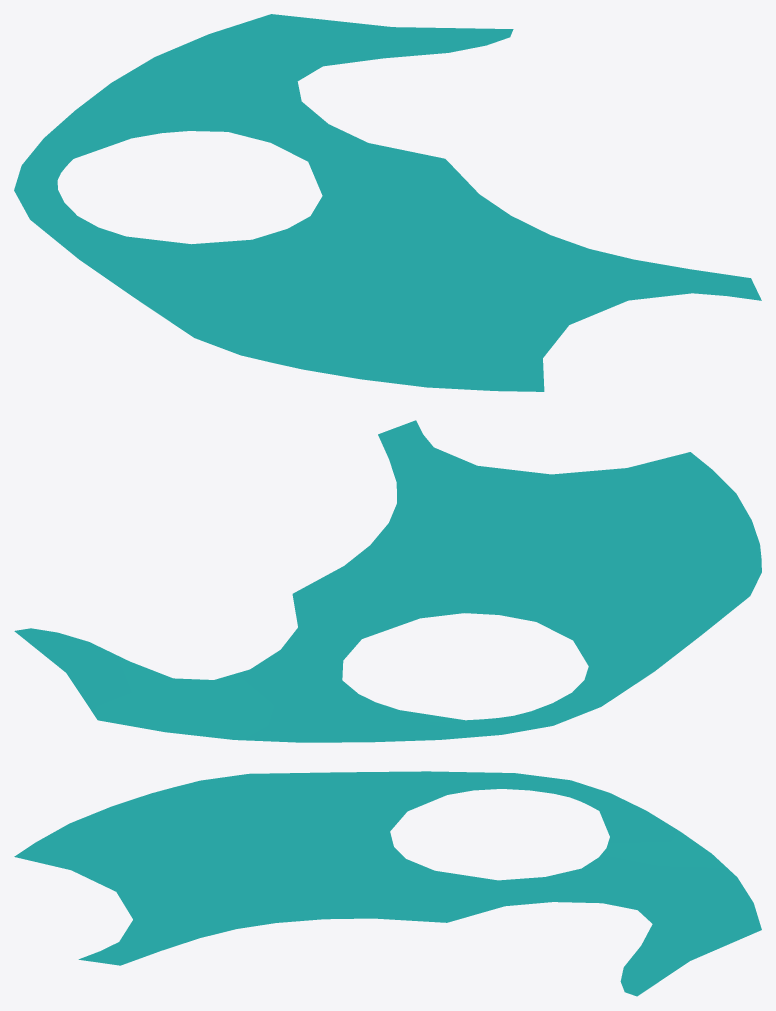
File: frog_color_1.fbx
3 views of the same model, one above another, from view 1: azimuth 30°, elevation 25°; view 2: azimuth 150°, elevation 25°; view 3: azimuth 270°, elevation 25° (orthographic). The views are drawn at different scales.
Parts seen in each view (by area): view 1: frog_color_1; view 2: frog_color_1; view 3: frog_color_1.
Boxes of the visible parts, x1=… form: frog_color_1: x1=14, y1=14, x2=761, y2=391; frog_color_1: x1=14, y1=420, x2=761, y2=742; frog_color_1: x1=14, y1=771, x2=761, y2=996.
Size of the model in its own units: 34.52 by 0 by 48.47.
